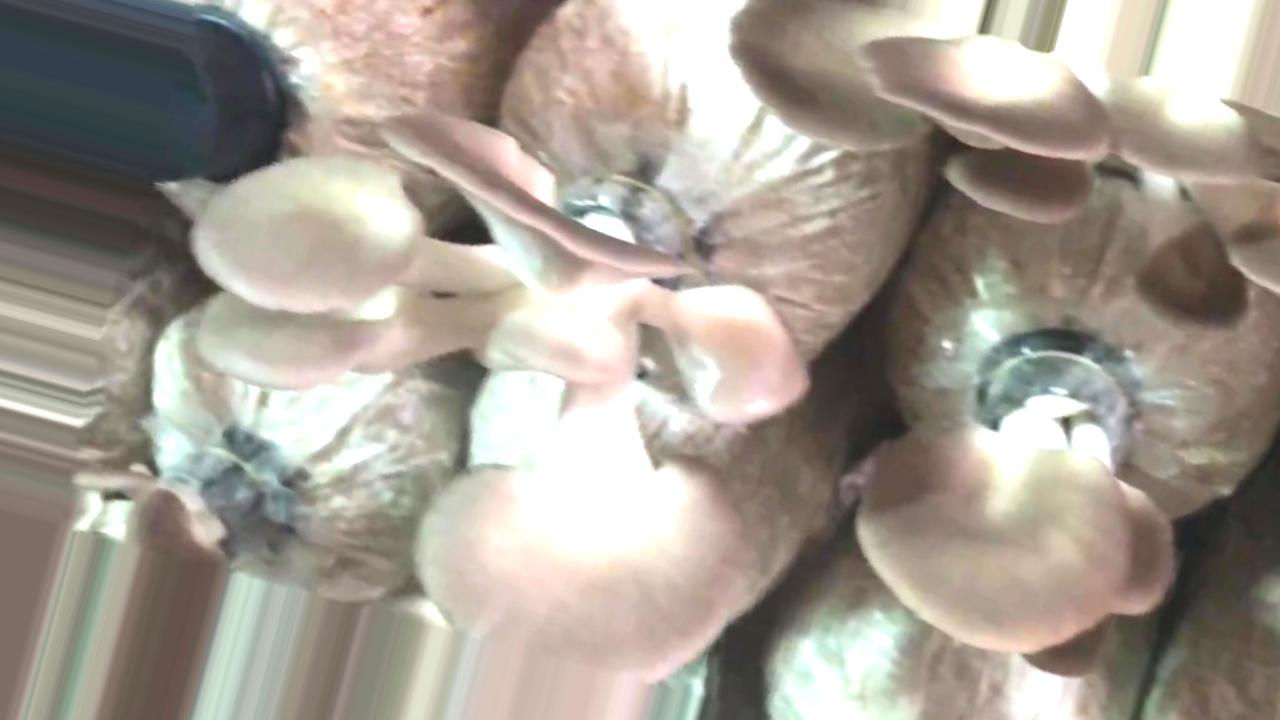nam: (185, 103, 810, 681), (725, 1, 1280, 332), (853, 320, 1184, 655)
